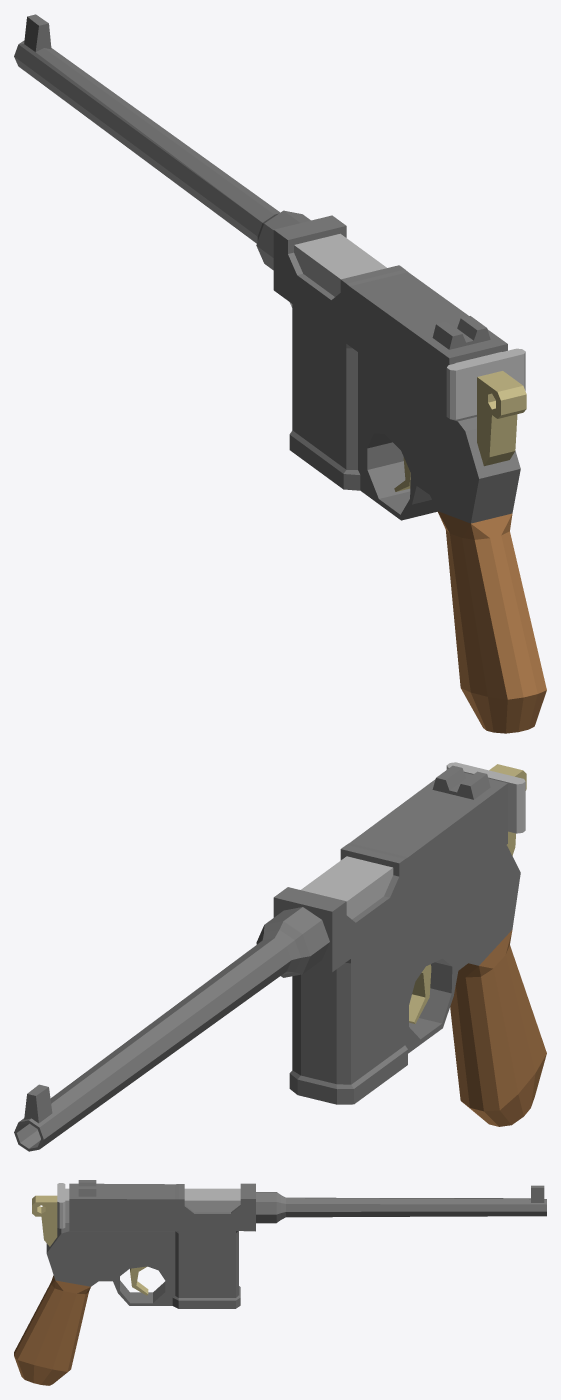
File: MSR-C96-Long.fbx
3 renders of one model, top to bottom at view 1: azimuth 30°, elevation 25°; view 2: azimuth 150°, elevation 25°; view 3: azimuth 270°, elevation 25°, orthographic. The views are drawn at different scales.
Parts seen in each view (by area): view 1: Mauser.002; view 2: Mauser.002; view 3: Mauser.002.
Boxes of the visible parts, bbox=[...] form: Mauser.002: bbox=[14, 14, 546, 733]; Mauser.002: bbox=[14, 762, 546, 1151]; Mauser.002: bbox=[14, 1180, 546, 1385].
Bounding box in the file's own units: 52.75 × 249 × 605.
